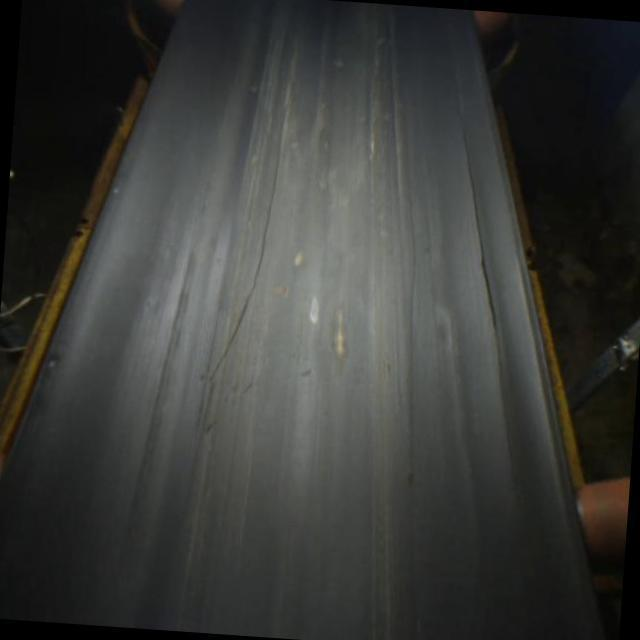Tear: (191, 118, 292, 432), (449, 82, 511, 427)
